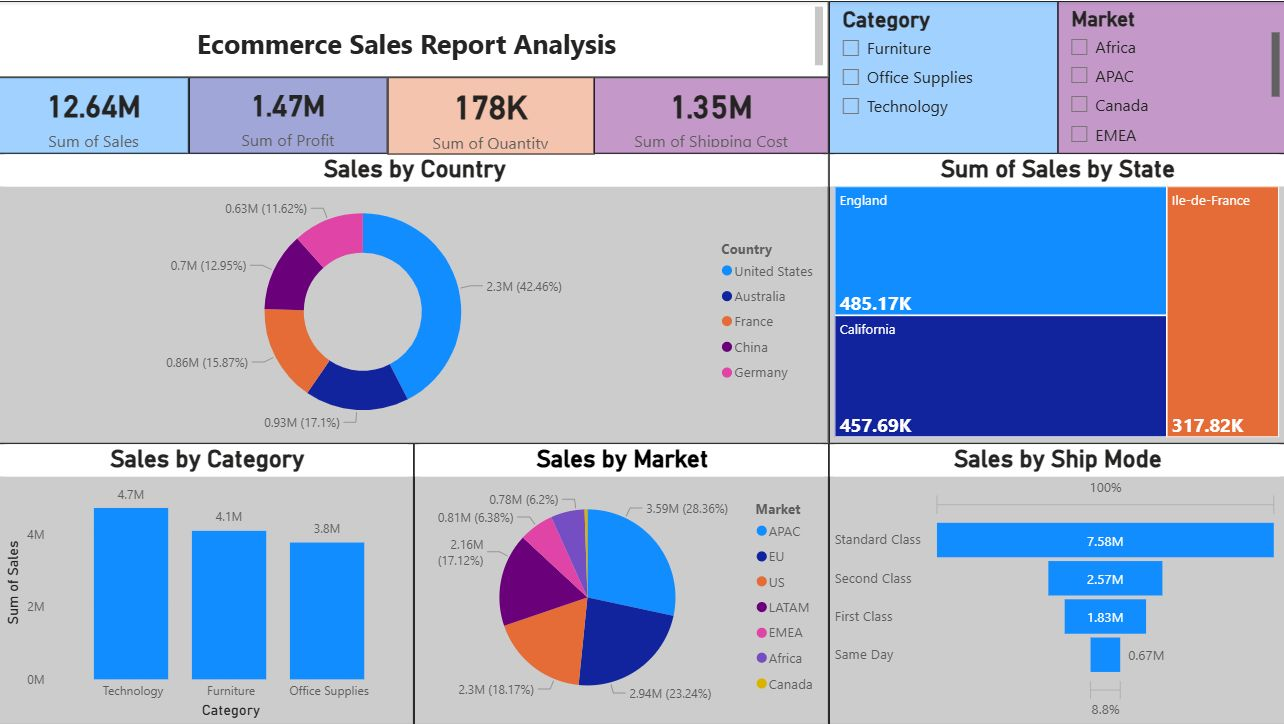

The page's visual inventory and layout, read from the dashboard file:
{"tool":"powerbi","page":{"name":"Page 1","canvas":[1280,720],"ordinal":0},"visuals":[{"type":"columnChart","title":"Sales by Category","fields":{"Category":["Orders.Category"],"Y":["Sum(Orders.Sales)"]},"box":[0,440.4,413,279.9],"z":0},{"type":"pieChart","title":"Sales by Market","fields":{"Category":["Orders.Market"],"Y":["Sum(Orders.Sales)"]},"box":[413,440.4,413,279.9],"z":1000},{"type":"funnel","title":"Sales by Ship Mode","fields":{"Category":["Orders.Ship Mode"],"Y":["Sum(Orders.Sales)"]},"box":[826,440.4,454,279.9],"z":2000},{"type":"donutChart","title":"Sales by Country","fields":{"Category":["Orders.Country"],"Y":["Sum(Orders.Sales)"]},"box":[0,151.8,826,288.6],"z":3000},{"type":"treemap","fields":{"Group":["Orders.State"],"Values":["Sum(Orders.Sales)"]},"box":[826,151.8,454,288.6],"z":4000},{"type":"card","fields":{"Values":["Sum(Orders.Sales)"]},"box":[0,75.9,189.1,75.9],"z":5000},{"type":"card","fields":{"Values":["Sum(Orders.Profit)"]},"box":[189.1,75.9,197.8,75.9],"z":6000},{"type":"card","fields":{"Values":["Sum(Orders.Quantity)"]},"box":[386.9,75.9,205.3,77.1],"z":7000},{"type":"card","fields":{"Values":["Sum(Orders.Shipping Cost)"]},"box":[592.1,75.9,233.9,75.9],"z":8000},{"type":"slicer","fields":{"Values":["Orders.Category"]},"box":[826,0,227.6,151.8],"z":9000},{"type":"slicer","fields":{"Values":["Orders.Market"]},"box":[1053.6,0,226.4,151.8],"z":10000},{"type":"textbox","box":[0,0,826,75.9],"z":11000}]}

Visuals, with their boxes in screenshot pixels (x1, y1, x2, y2), scaled from the page's 1280x720 canvas onto the 1284x724 screenshot:
"Sales by Category" columnChart: left=0, top=443, right=414, bottom=723
"Sales by Market" pieChart: left=414, top=443, right=829, bottom=723
"Sales by Ship Mode" funnel: left=829, top=443, right=1283, bottom=723
"Sales by Country" donutChart: left=0, top=153, right=829, bottom=443
treemap - Orders.State x Sum(Orders.Sales): left=829, top=153, right=1283, bottom=443
card - Sum(Orders.Sales): left=0, top=76, right=190, bottom=153
card - Sum(Orders.Profit): left=190, top=76, right=388, bottom=153
card - Sum(Orders.Quantity): left=388, top=76, right=594, bottom=154
card - Sum(Orders.Shipping Cost): left=594, top=76, right=829, bottom=153
slicer - Orders.Category: left=829, top=0, right=1057, bottom=153
slicer - Orders.Market: left=1057, top=0, right=1283, bottom=153
textbox: left=0, top=0, right=829, bottom=76
